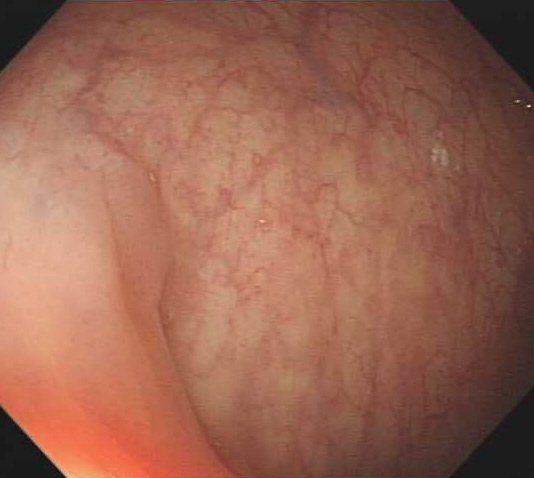others: (39, 130, 170, 324)
